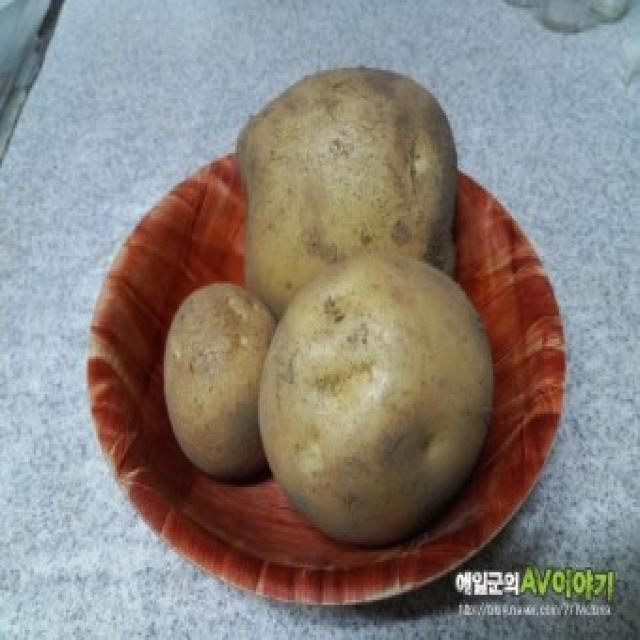potato: (256, 249, 497, 548), (227, 61, 462, 312), (162, 273, 302, 488)
